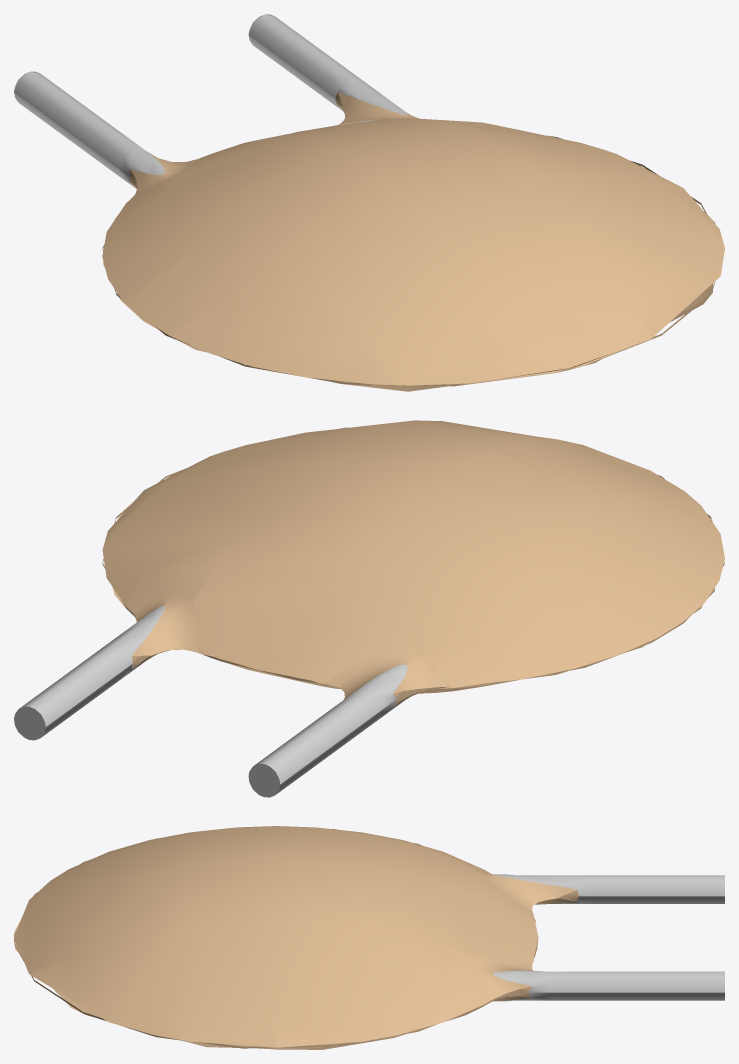
The model's file is capflat.fbx.
The picture shows the model from 3 angles, top to bottom: view 1: azimuth 30°, elevation 25°; view 2: azimuth 150°, elevation 25°; view 3: azimuth 270°, elevation 25°; orthographic projection. The views are drawn at different scales.
Parts seen in each view (by area): view 1: nurbsToPoly9, nurbsToPoly2, nurbsToPoly1, nurbsToPoly15, nurbsToPoly19, nurbsToPoly8, nurbsToPoly12, nurbsToPoly3, nurbsToPoly10; view 2: nurbsToPoly9, nurbsToPoly2, nurbsToPoly1, nurbsToPoly15, nurbsToPoly19, nurbsToPoly12, nurbsToPoly8, nurbsToPoly11, nurbsToPoly13, nurbsToPoly10; view 3: nurbsToPoly9, nurbsToPoly1, nurbsToPoly2, nurbsToPoly10, nurbsToPoly19, nurbsToPoly15, nurbsToPoly12, nurbsToPoly8, nurbsToPoly6.
Part boxes in pixels (bbox=[...]): nurbsToPoly9: bbox=[102, 118, 724, 385]; nurbsToPoly2: bbox=[14, 72, 165, 176]; nurbsToPoly1: bbox=[248, 14, 407, 114]; nurbsToPoly15: bbox=[335, 92, 418, 125]; nurbsToPoly19: bbox=[130, 152, 198, 195]; nurbsToPoly8: bbox=[103, 175, 715, 391]; nurbsToPoly12: bbox=[14, 92, 136, 188]; nurbsToPoly3: bbox=[102, 201, 569, 386]; nurbsToPoly10: bbox=[249, 35, 378, 122]; nurbsToPoly9: bbox=[102, 420, 724, 687]; nurbsToPoly2: bbox=[254, 664, 407, 783]; nurbsToPoly1: bbox=[19, 605, 164, 726]; nurbsToPoly15: bbox=[132, 593, 198, 655]; nurbsToPoly19: bbox=[325, 649, 435, 699]; nurbsToPoly12: bbox=[276, 699, 400, 794]; nurbsToPoly8: bbox=[112, 500, 714, 693]; nurbsToPoly11: bbox=[14, 706, 45, 740]; nurbsToPoly13: bbox=[248, 763, 280, 797]; nurbsToPoly10: bbox=[42, 655, 143, 736]; nurbsToPoly9: bbox=[14, 826, 538, 1047]; nurbsToPoly1: bbox=[493, 970, 724, 992]; nurbsToPoly2: bbox=[493, 874, 724, 896]; nurbsToPoly10: bbox=[500, 992, 724, 1001]; nurbsToPoly19: bbox=[475, 870, 576, 911]; nurbsToPoly15: bbox=[475, 958, 533, 998]; nurbsToPoly12: bbox=[552, 896, 724, 903]; nurbsToPoly8: bbox=[14, 870, 538, 1049]; nurbsToPoly6: bbox=[14, 938, 491, 1048].
Size of the model in its own units: 0.5842 by 0.1655 by 0.7921.
